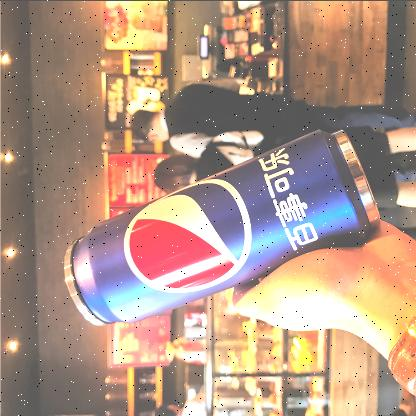Can: (64, 130, 378, 324)
